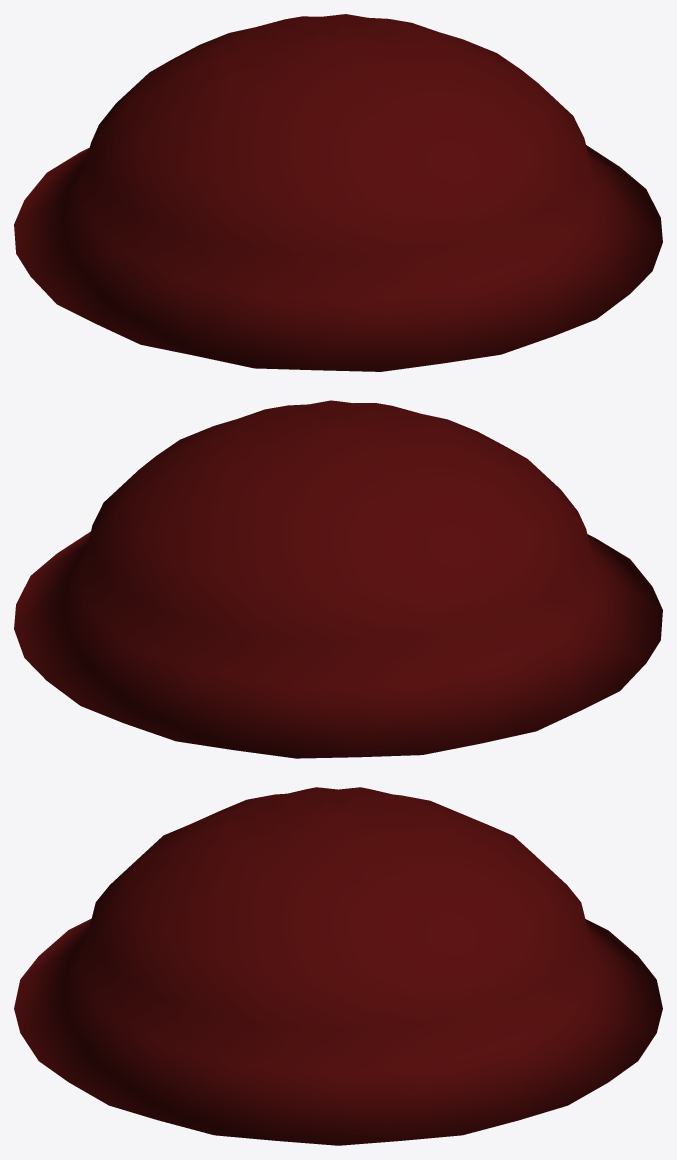
Rendered from indicator_light_dark_red.glb.
The picture shows the model from 3 angles, top to bottom: view 1: azimuth 30°, elevation 25°; view 2: azimuth 150°, elevation 25°; view 3: azimuth 270°, elevation 25°; orthographic projection.
Parts seen in each view (by area): view 1: Sphere; view 2: Sphere; view 3: Sphere.
Part boxes in pixels (x1,y1,x2,y2): Sphere: (14,14,662,371); Sphere: (14,400,662,758); Sphere: (14,787,662,1145).
Bounding box in the file's own units: 0.1 × 0.0326 × 0.1.
